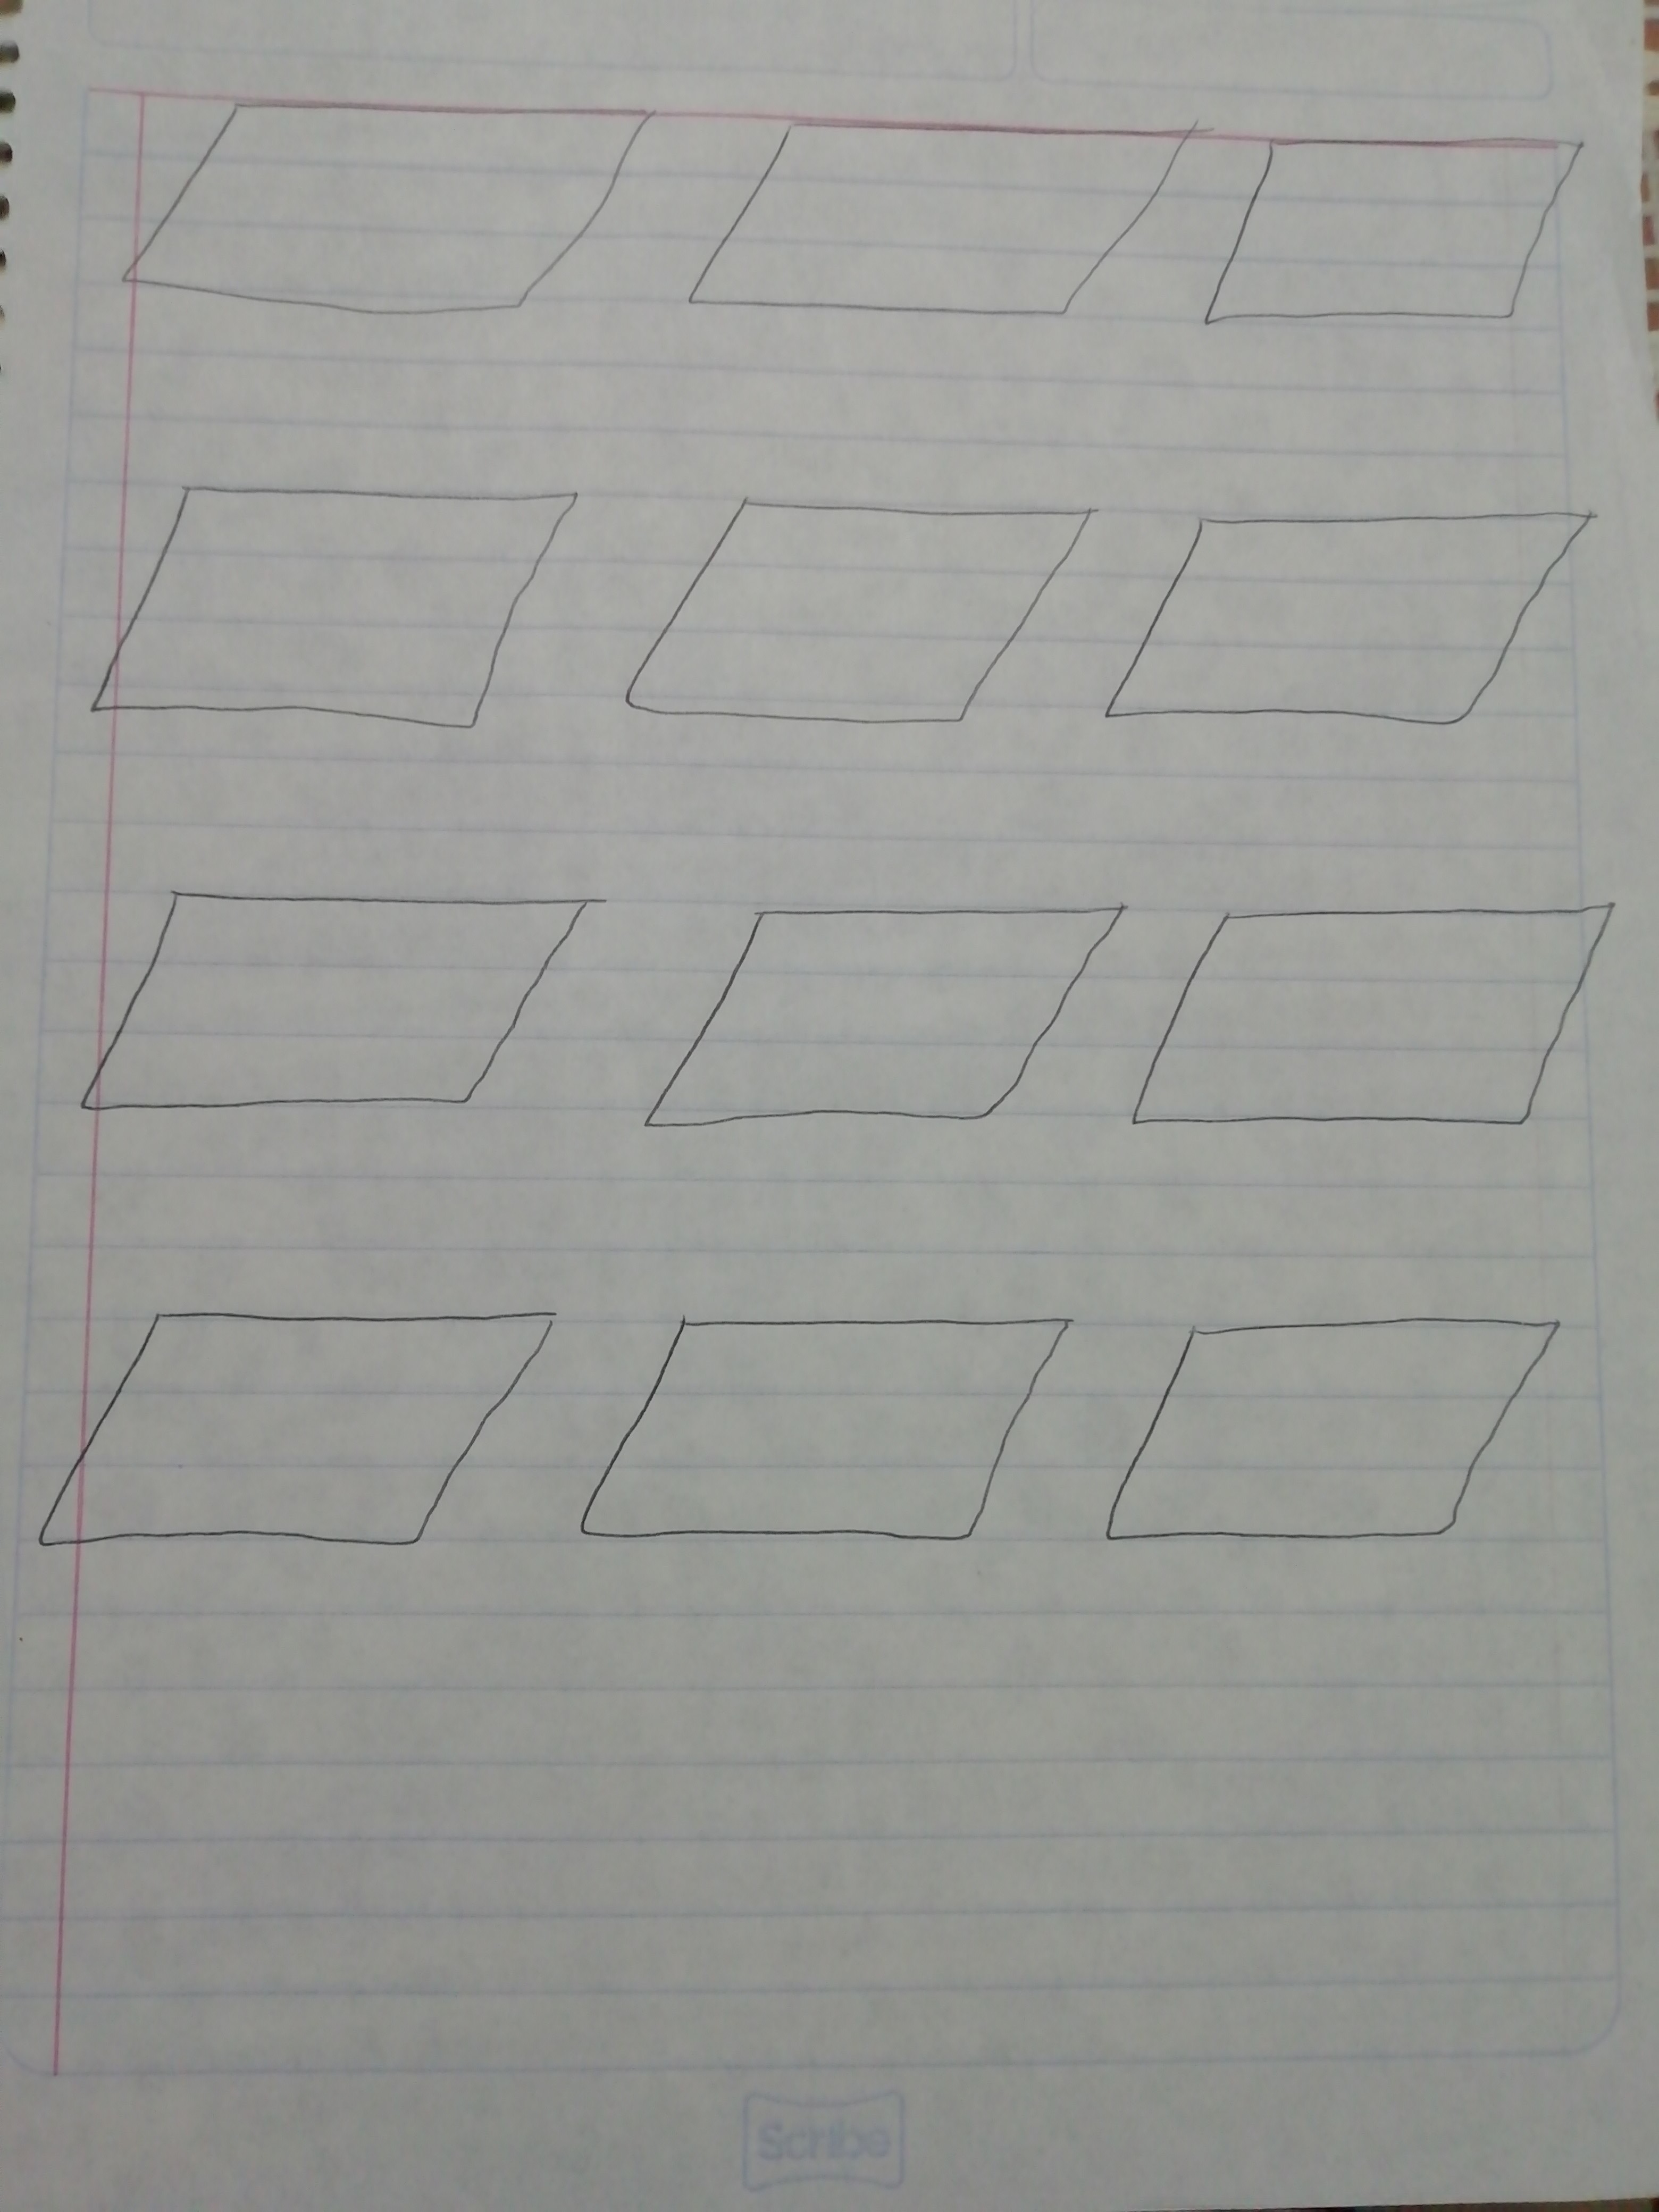scan: (2, 1268, 568, 1641), (61, 35, 678, 362), (33, 449, 591, 766), (33, 857, 605, 1160), (575, 1291, 1086, 1606), (681, 49, 1199, 357), (1096, 1277, 1586, 1595), (626, 876, 1129, 1165), (1133, 880, 1636, 1165), (1101, 486, 1622, 744), (612, 475, 1096, 751)
